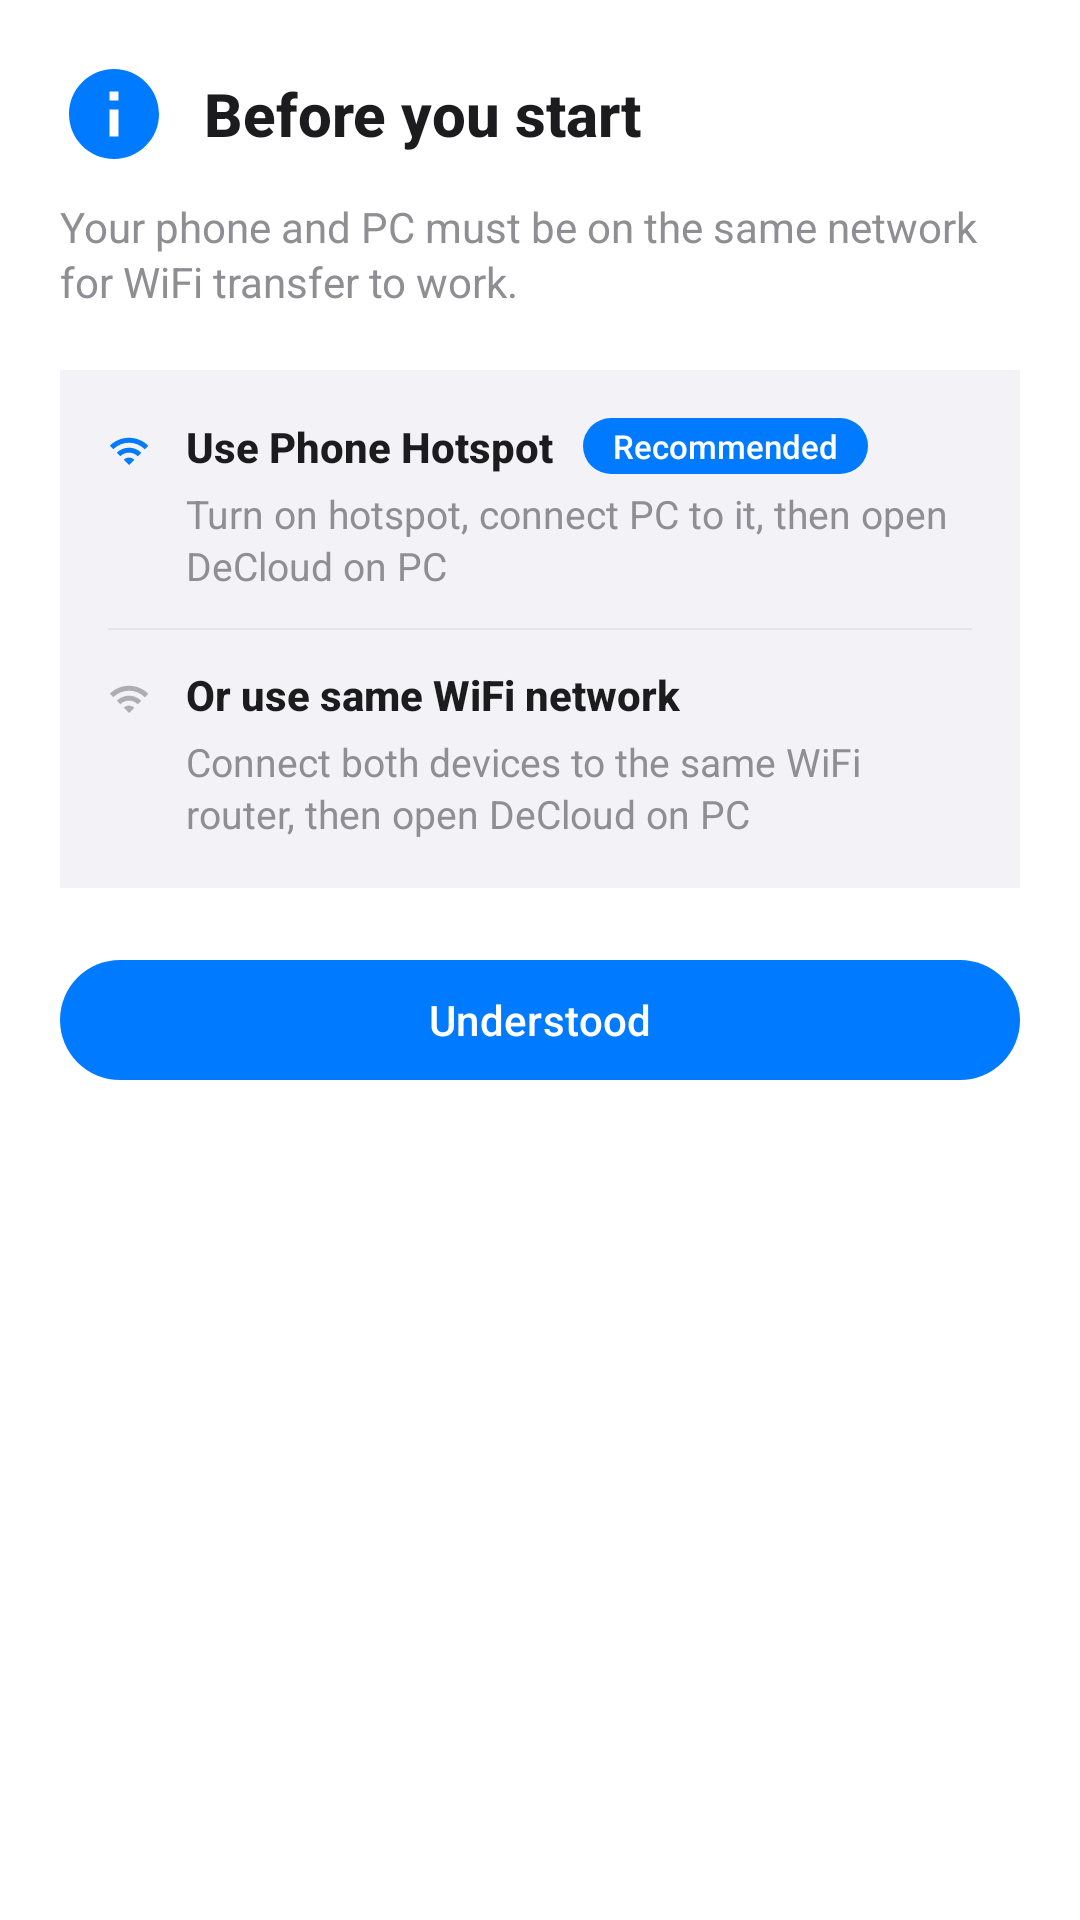

Icons on this 1080w x 1920h Android screen, each with its box as (x1, y1, x2, y2):
info: (69, 69, 159, 159)
